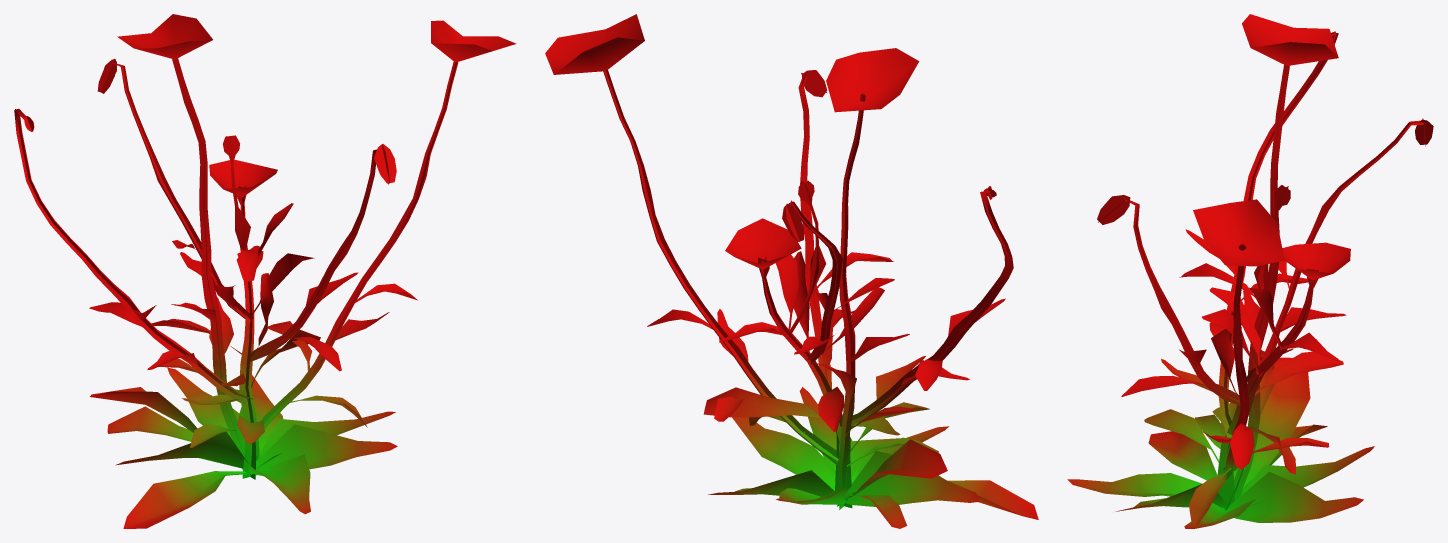
Rendered from Field Poppy_LOD2_Var1_vmcobd0ja.fbx.
3 renders of one model, left to right at view 1: azimuth 30°, elevation 25°; view 2: azimuth 150°, elevation 25°; view 3: azimuth 270°, elevation 25°, orthographic. The views are drawn at different scales.
Parts seen in each view (by area): view 1: _xvsb_Var1_LOD2; view 2: _xvsb_Var1_LOD2; view 3: _xvsb_Var1_LOD2.
Part boxes in pixels (bbox=[...]): _xvsb_Var1_LOD2: bbox=[14, 14, 516, 528]; _xvsb_Var1_LOD2: bbox=[545, 14, 1038, 528]; _xvsb_Var1_LOD2: bbox=[1067, 14, 1433, 528].
Bounding box in the file's own units: 73.96 × 69.12 × 49.52.
